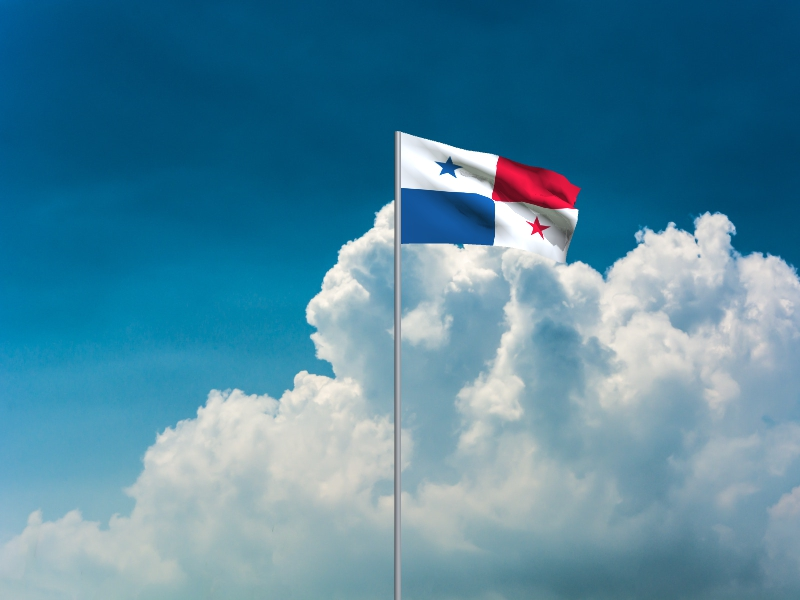pa: (401, 133, 581, 265)
